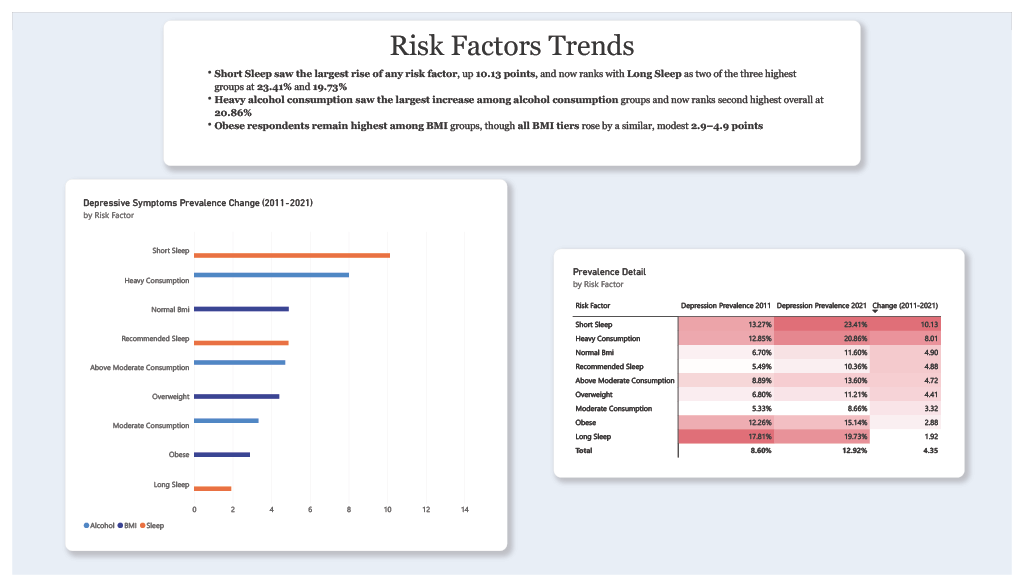

This screenshot's page, from the dashboard's own definition file:
{"tool":"powerbi","page":{"name":"Risk Factor Trends","canvas":[1920,1080],"ordinal":2},"visuals":[{"type":"shape","box":[1040,454,790,440],"z":0},{"type":"shape","box":[100.7,320,850,715],"z":1000},{"type":"shape","box":[290,15,1340,280],"z":2000},{"type":"clusteredBarChart","title":"Depressive Symptoms Prevalence Change (2011-2021)","fields":{"Category":["risk_factors_m.risk_factor_value"],"Y":["risk_factors_m.Depression ppc Measure (Risk Factors)"],"Series":["risk_factors_m.risk_factor_type"]},"box":[120,340,810,675.5],"z":3000},{"type":"pivotTable","title":"Prevalence Detail","fields":{"Rows":["risk_factors_m.risk_factor_value"],"Values":["risk_factors_m.Depression Rate 2011(risk factors)","risk_factors_m.Depression Rate 2021(risk factors)","risk_factors_m.Depression ppc Measure (Risk Factors)"]},"box":[1060.7,474.2,750,402.7],"z":4000},{"type":"textbox","box":[360.4,103.7,1200,156.9],"z":5000},{"type":"textbox","box":[310,33,1300,70],"z":8000}]}

Visuals, with their boxes in screenshot pixels (x1, y1, x2, y2), scaled from the page's 1920x1080 canvas onto the 1024x587 screenshot:
shape: 555:247:976:486
shape: 54:174:507:563
shape: 155:8:869:160
"Depressive Symptoms Prevalence Change (2011-2021)" clusteredBarChart: 64:185:496:552
"Prevalence Detail" pivotTable: 566:258:966:477
textbox: 192:56:832:142
textbox: 165:18:859:56
